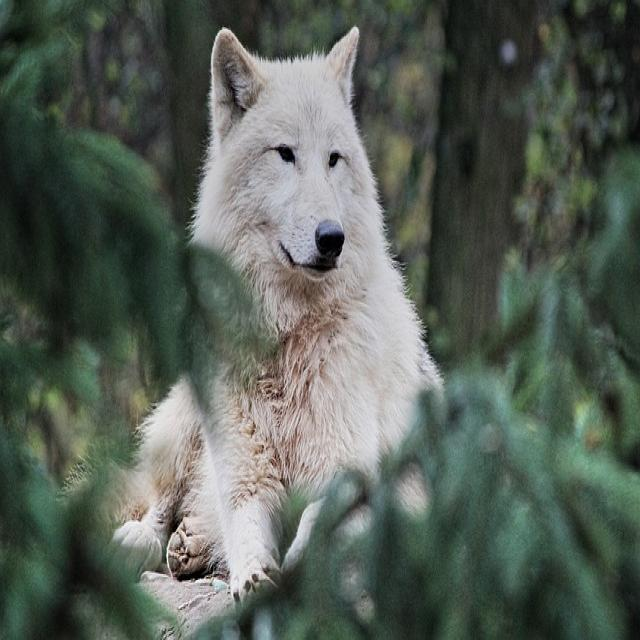Carnivorous: (116, 27, 442, 604)
